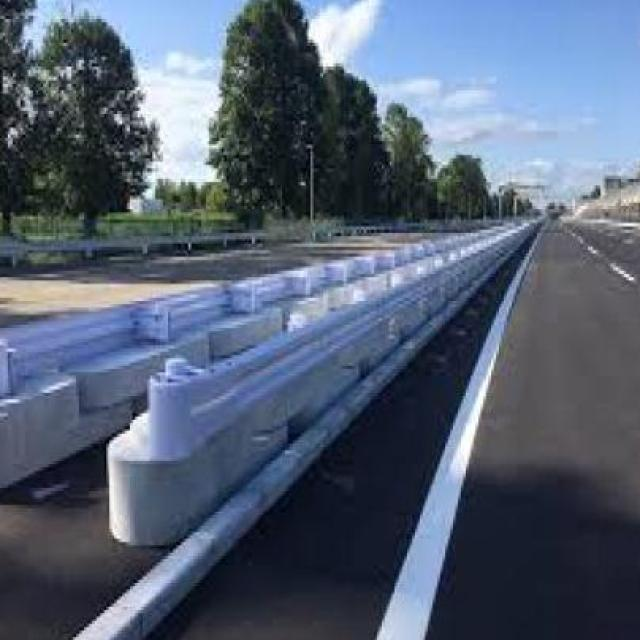Guard rail: (0, 212, 543, 556)
